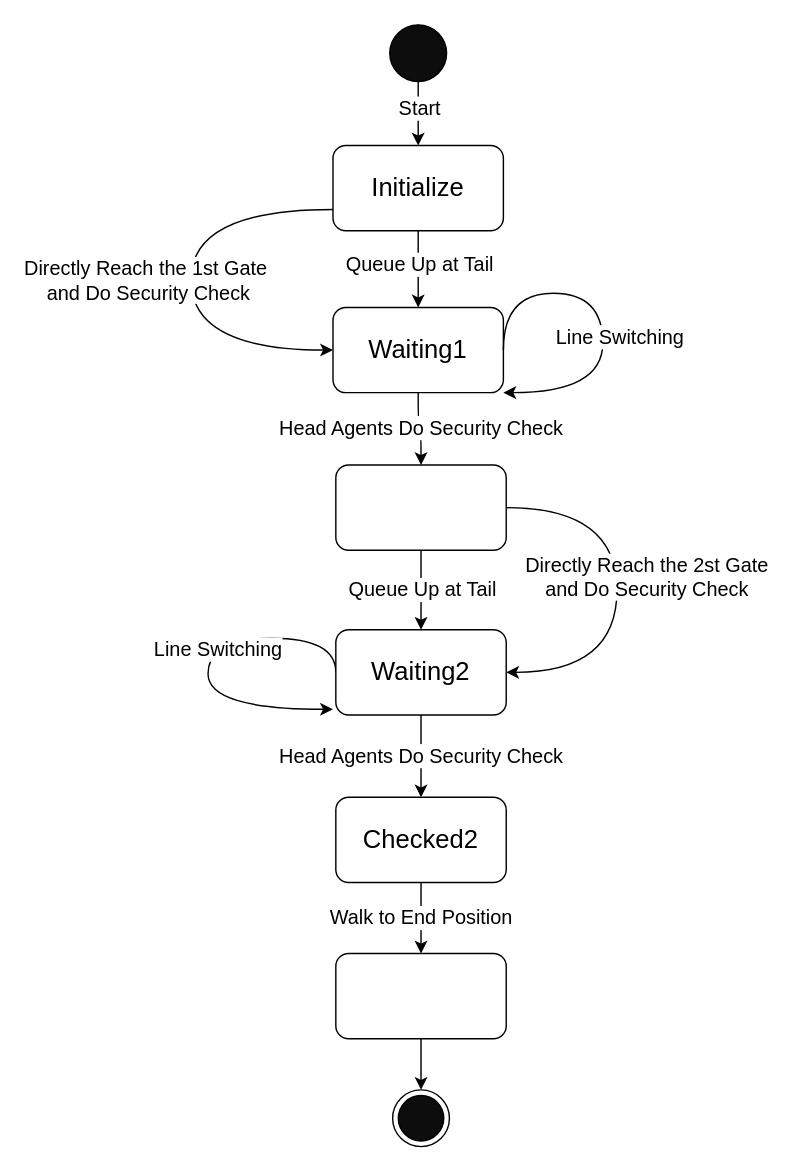
This 792x1172 diagram has some shape labels left out. Here are the shapes that lost their labels. From the top down, the centre of each, then its label:
point 420,507: Checked1
point 420,995: End Position
